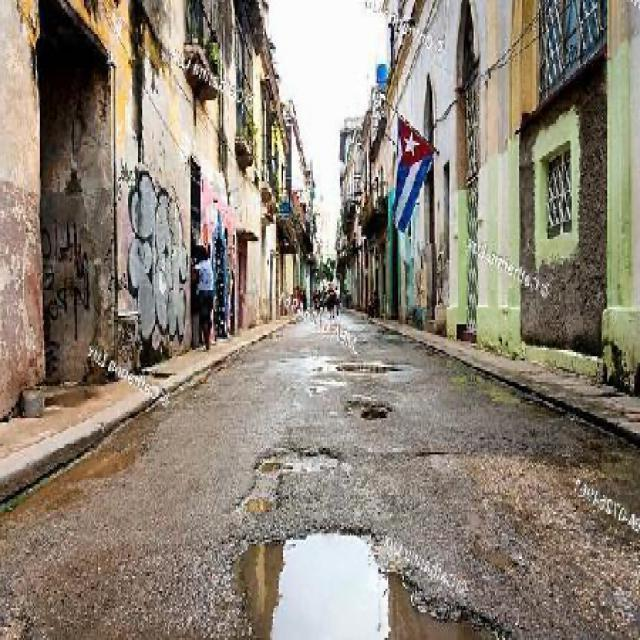pothole: (232, 523, 521, 634), (235, 442, 286, 519), (253, 442, 341, 476), (343, 397, 393, 422), (336, 361, 405, 376)
